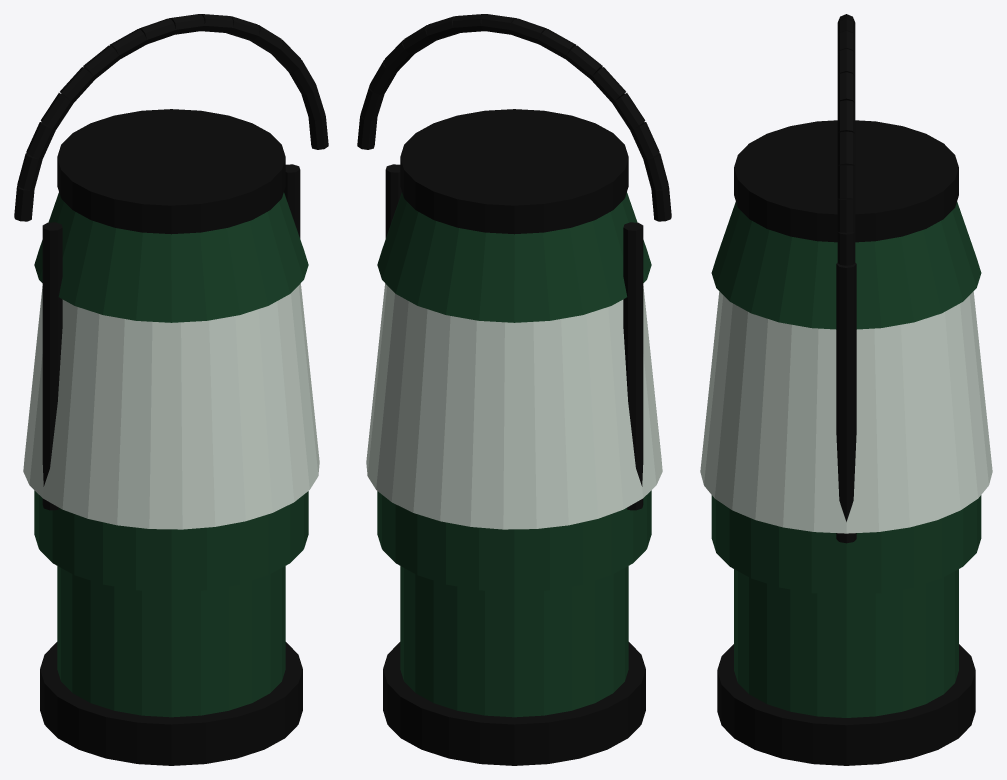
File: camping_lantern.obj
3 views of the same model, side by side, from view 1: azimuth 30°, elevation 25°; view 2: azimuth 150°, elevation 25°; view 3: azimuth 270°, elevation 25° (orthographic).
Parts seen in each view (by area): view 1: glass_globe, green_base_lower, top_black_rim, top_green_cap, green_base_upper, bottom_black_rim, side_support_-0.24, side_support_0.24, handle_arc_13, handle_arc_11, handle_arc_12, handle_arc_10 (+6 smaller); view 2: glass_globe, green_base_lower, top_black_rim, top_green_cap, green_base_upper, bottom_black_rim, side_support_-0.24, side_support_0.24, handle_arc_13, handle_arc_11, handle_arc_12, handle_arc_10 (+6 smaller); view 3: glass_globe, green_base_lower, top_green_cap, top_black_rim, green_base_upper, bottom_black_rim, side_support_0.24, handle_arc_3, handle_arc_2, handle_arc_1, handle_arc_0, handle_arc_4 (+1 smaller).
Boxes of the visible parts, <box> form: glass_globe: <box>23,283,319,529</box>; green_base_lower: <box>57,566,285,717</box>; top_black_rim: <box>57,109,285,234</box>; top_green_cap: <box>34,192,308,322</box>; green_base_upper: <box>34,490,308,592</box>; bottom_black_rim: <box>40,642,302,765</box>; side_support_-0.24: <box>42,222,62,510</box>; side_support_0.24: <box>284,164,300,238</box>; handle_arc_13: <box>26,122,55,159</box>; handle_arc_11: <box>60,67,95,102</box>; handle_arc_12: <box>40,93,73,129</box>; handle_arc_10: <box>83,45,119,78</box>; glass_globe: <box>366,283,662,529</box>; green_base_lower: <box>400,566,628,717</box>; top_black_rim: <box>400,109,628,234</box>; top_green_cap: <box>377,192,651,322</box>; green_base_upper: <box>377,490,651,592</box>; bottom_black_rim: <box>383,642,645,765</box>; side_support_-0.24: <box>623,222,643,510</box>; side_support_0.24: <box>385,164,401,238</box>; handle_arc_13: <box>630,122,659,159</box>; handle_arc_11: <box>590,67,625,102</box>; handle_arc_12: <box>612,93,645,129</box>; handle_arc_10: <box>566,45,602,78</box>; glass_globe: <box>700,291,992,533</box>; green_base_lower: <box>734,569,958,717</box>; top_green_cap: <box>711,201,981,329</box>; top_black_rim: <box>734,120,958,242</box>; green_base_upper: <box>711,495,981,594</box>; bottom_black_rim: <box>717,644,975,765</box>; side_support_0.24: <box>836,263,856,543</box>; handle_arc_3: <box>837,131,855,165</box>; handle_arc_2: <box>837,165,855,198</box>; handle_arc_1: <box>837,199,855,232</box>; handle_arc_0: <box>837,232,855,265</box>; handle_arc_4: <box>837,100,855,133</box>.
Size of the model in its own units: 0.6318 by 1.34 by 0.52.
